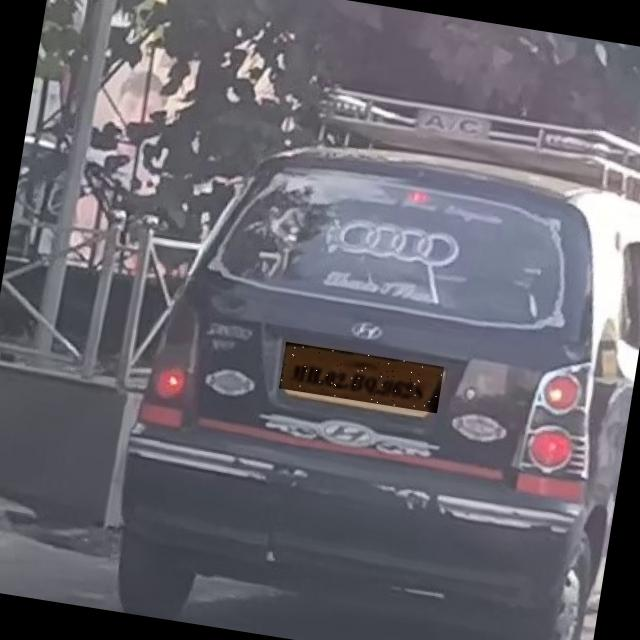Plate: (280, 343, 445, 414)
